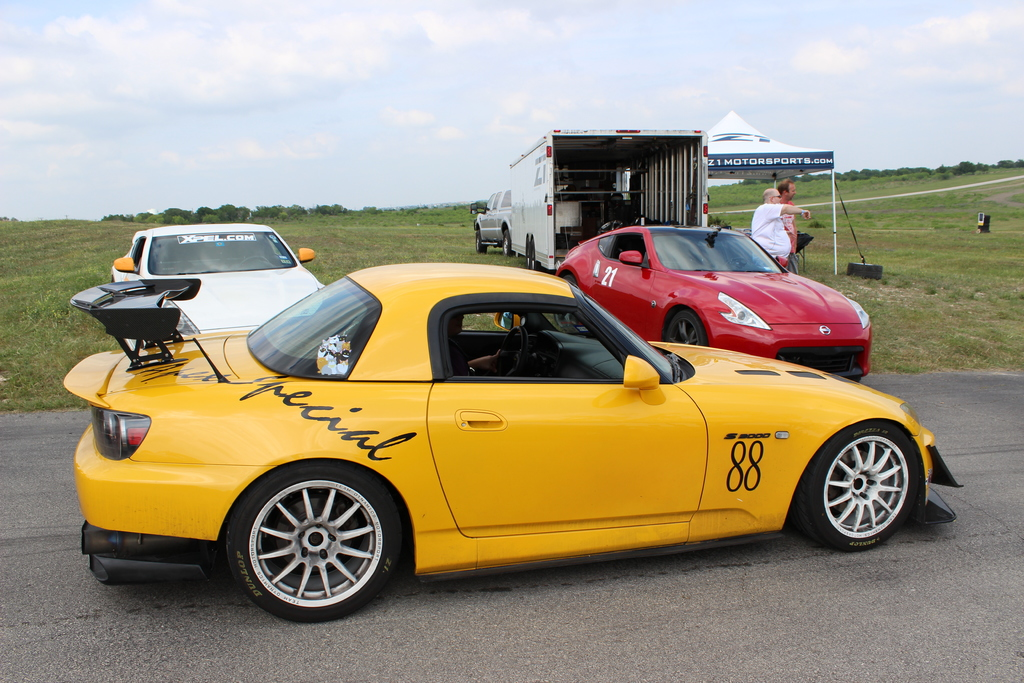cars: (58, 262, 962, 627), (556, 222, 871, 379), (107, 223, 325, 336), (470, 187, 511, 254)
